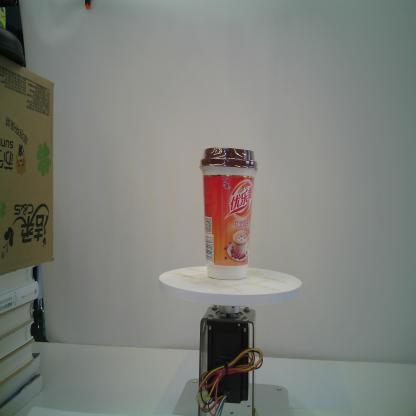Instant Drink: (199, 147, 259, 280)
